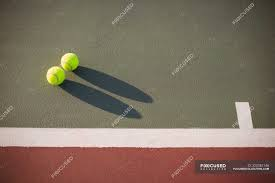tennis_ball: (59, 51, 80, 73), (46, 66, 65, 87)
